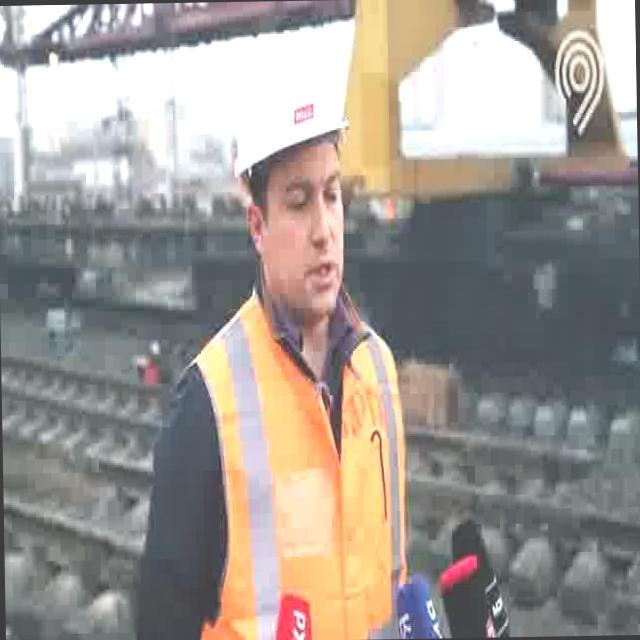helmet: (233, 38, 346, 184)
vest: (170, 273, 411, 640)
